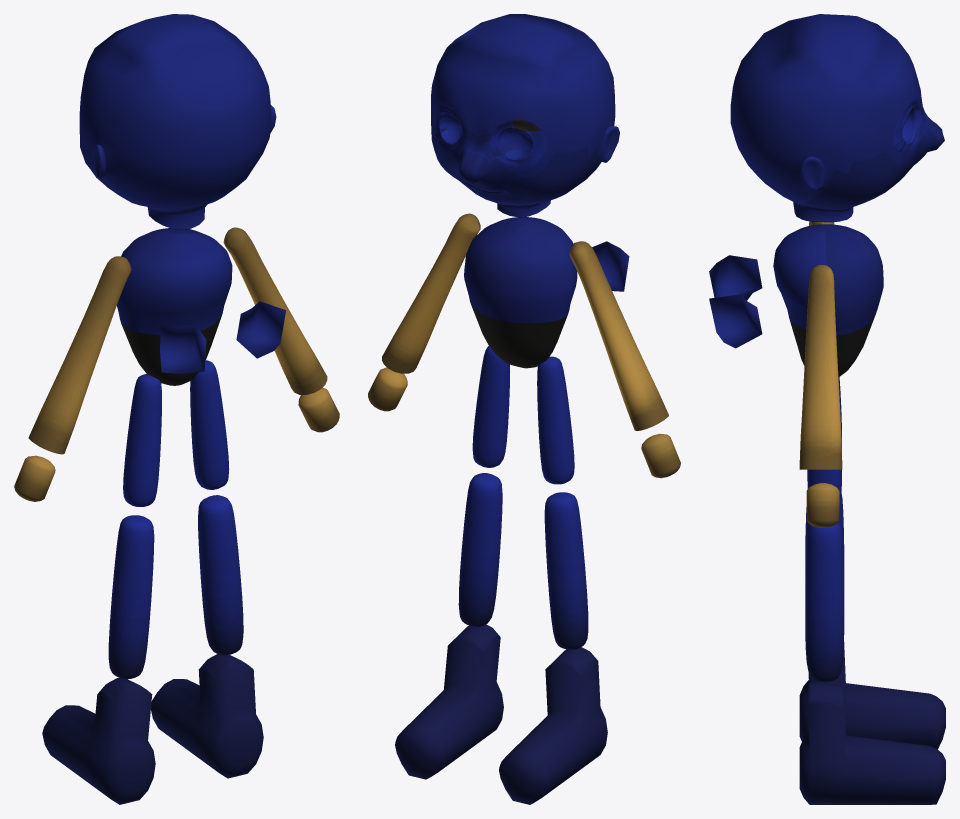
3 renders of one model, left to right at view 1: azimuth 30°, elevation 25°; view 2: azimuth 150°, elevation 25°; view 3: azimuth 270°, elevation 25°, orthographic. The views are drawn at different scales.
Visible parts, largest first — view 1: Player10, Player12, Player7, Player13, Player8, Player14, Player9, Player15, Player4, Player5, Player2, Player3 (+3 smaller); view 2: Player10, Player12, Player7, Player13, Player8, Player14, Player9, Player15, Player4, Player11, Player2, Player5 (+3 smaller); view 3: Player10, Player12, Player13, Player7, Player14, Player2, Player3, Player1, Player11, Player15.
Part boxes in pixels (<box>): Player10: <box>79,14,276,230</box>; Player12: <box>117,228,285,373</box>; Player7: <box>42,678,155,804</box>; Player13: <box>151,654,263,778</box>; Player8: <box>108,515,154,679</box>; Player14: <box>198,495,243,655</box>; Player9: <box>123,374,161,506</box>; Player15: <box>190,360,229,489</box>; Player4: <box>28,342,99,454</box>; Player5: <box>72,256,131,354</box>; Player2: <box>274,299,327,394</box>; Player3: <box>223,227,282,307</box>; Player10: <box>431,14,619,217</box>; Player12: <box>464,217,629,323</box>; Player7: <box>499,647,607,804</box>; Player13: <box>395,624,503,779</box>; Player8: <box>544,492,588,649</box>; Player14: <box>458,473,502,626</box>; Player9: <box>537,356,574,484</box>; Player15: <box>472,346,509,467</box>; Player4: <box>601,323,668,430</box>; Player11: <box>471,304,567,368</box>; Player2: <box>382,282,449,373</box>; Player5: <box>569,241,626,334</box>; Player10: <box>730,14,944,222</box>; Player12: <box>709,224,883,348</box>; Player13: <box>799,682,945,804</box>; Player7: <box>799,642,945,749</box>; Player14: <box>805,522,844,682</box>; Player2: <box>799,363,842,469</box>; Player3: <box>804,264,837,363</box>; Player1: <box>806,483,839,527</box>; Player11: <box>789,317,874,376</box>; Player15: <box>807,469,841,499</box>.
Size of the model in its own units: 1.96 by 4.41 by 1.26.
1 material, 1 textured.
